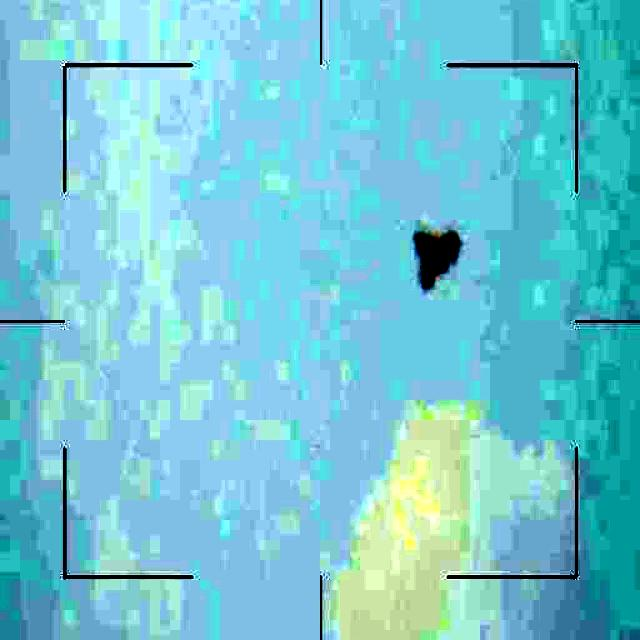bird: (416, 226, 462, 292)
